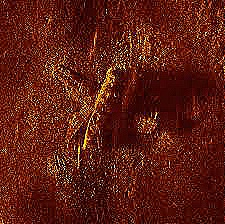aircraft: (46, 60, 180, 168)
